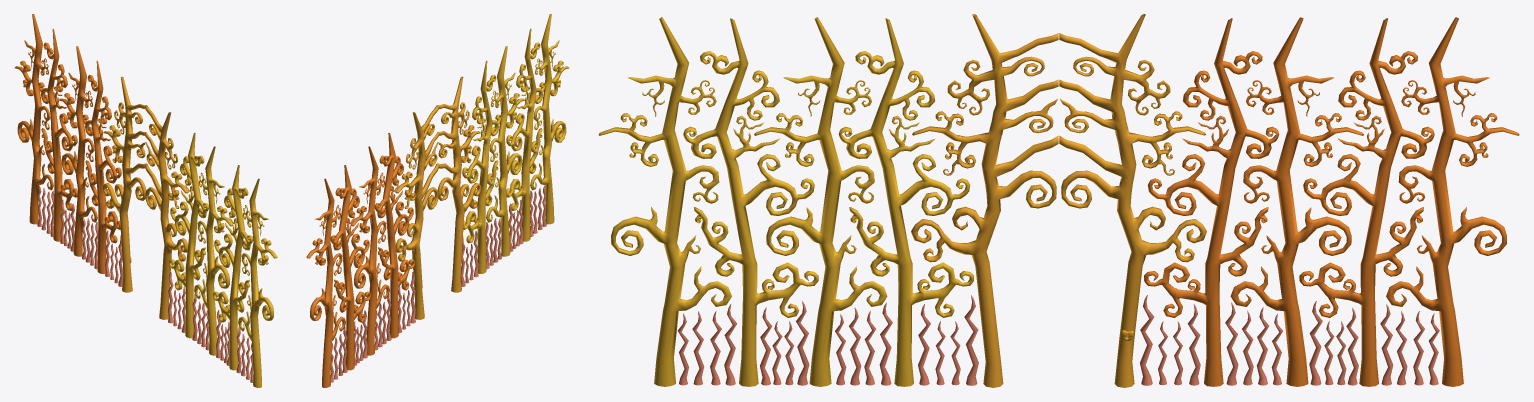
The model's file is Portal_low.fbx.
The picture shows the model from 3 angles, left to right: view 1: azimuth 30°, elevation 25°; view 2: azimuth 150°, elevation 25°; view 3: azimuth 270°, elevation 25°; orthographic projection. The views are drawn at different scales.
Visible parts, largest first — view 1: Portal; view 2: Portal; view 3: Portal.
Boxes of the visible parts, bbox=[...] form: Portal: bbox=[14, 14, 277, 387]; Portal: bbox=[306, 14, 569, 387]; Portal: bbox=[598, 14, 1519, 387].
Bounding box in the file's own units: 50 × 1022 × 2311.
